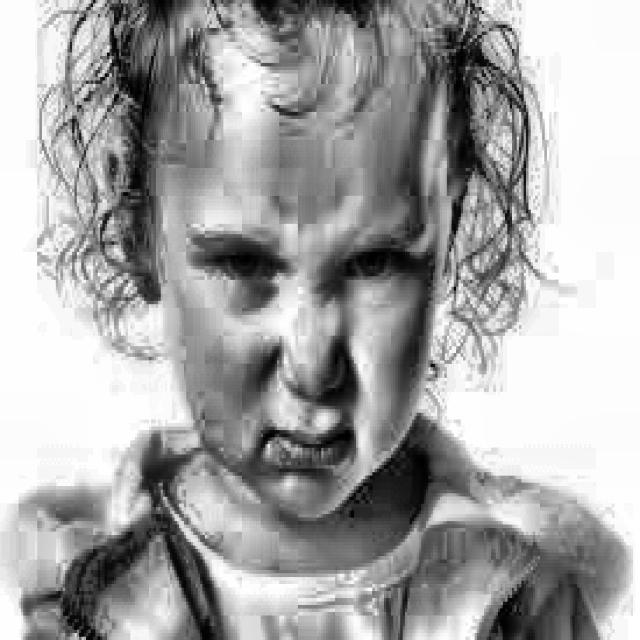angry: (85, 4, 518, 514)
